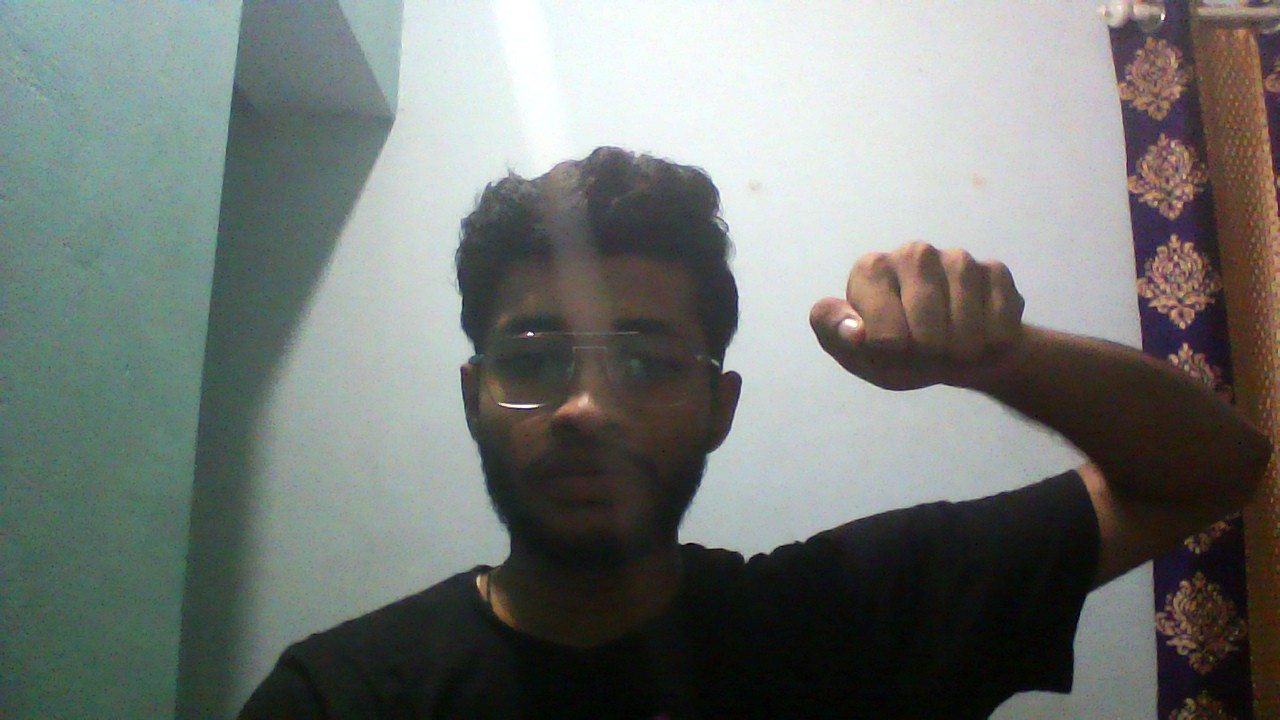Yes: (777, 202, 1074, 420)
